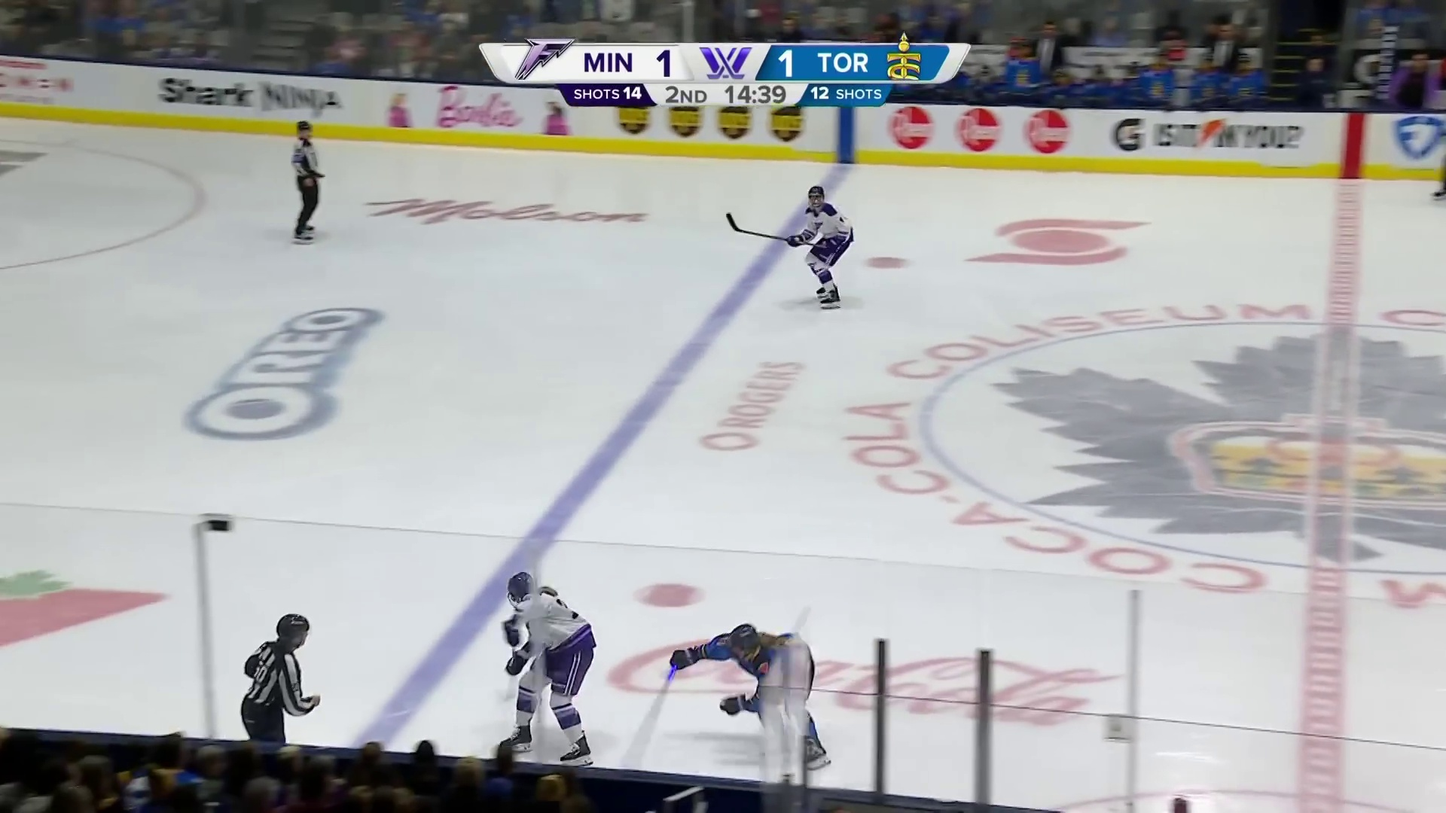player: (498, 570, 600, 764), (787, 185, 857, 310)
referee: (240, 613, 322, 742), (290, 117, 320, 243)
